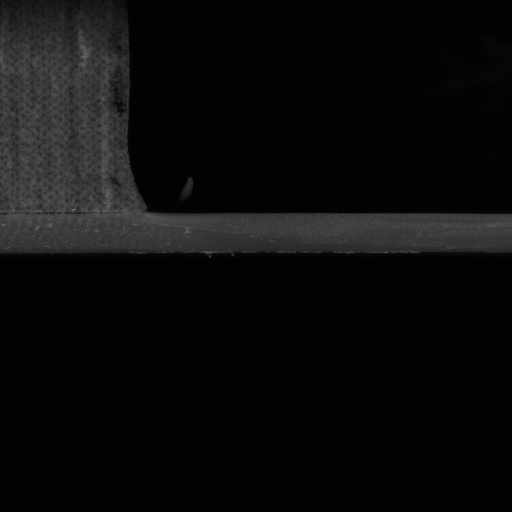changdai: (142, 210, 511, 258)
